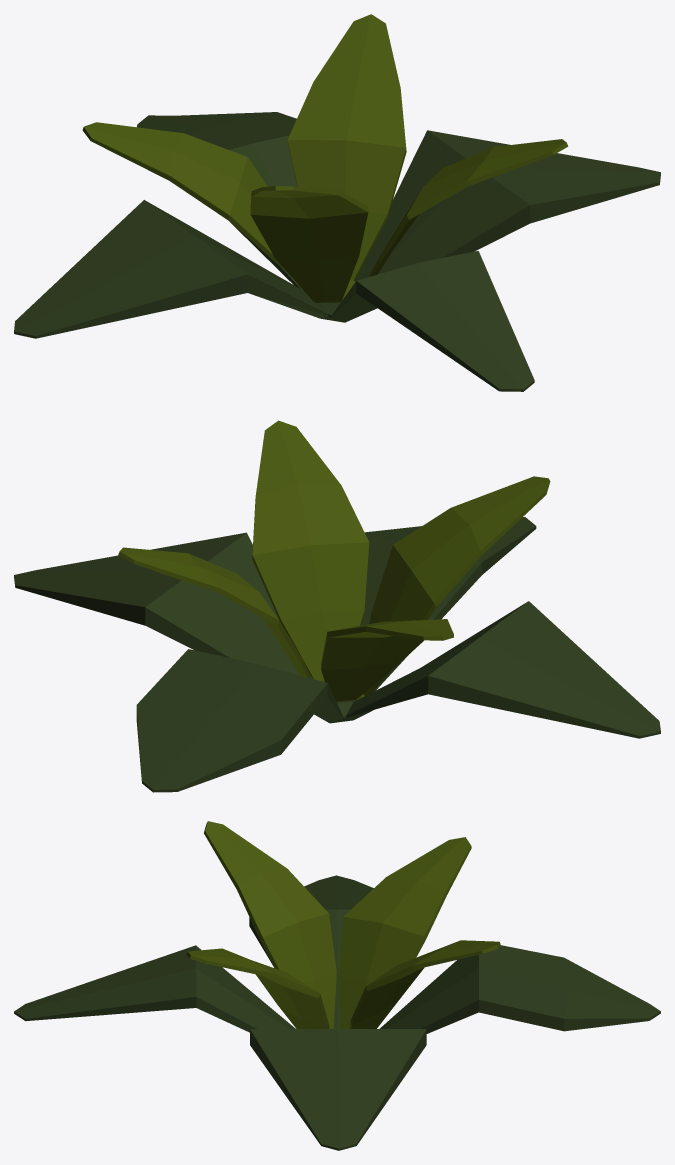
Rendered from LowBush.fbx.
3 views of the same model, one above another, from view 1: azimuth 30°, elevation 25°; view 2: azimuth 150°, elevation 25°; view 3: azimuth 270°, elevation 25° (orthographic). The views are drawn at different scales.
Parts seen in each view (by area): view 1: BushBase, BushTop; view 2: BushBase, BushTop; view 3: BushBase, BushTop.
Part boxes in pixels (bbox=[...]): BushBase: bbox=[14, 112, 660, 391]; BushTop: bbox=[82, 14, 568, 302]; BushBase: bbox=[14, 517, 660, 792]; BushTop: bbox=[118, 420, 550, 701]; BushBase: bbox=[14, 875, 660, 1150]; BushTop: bbox=[186, 821, 500, 1028].
Bounding box in the file's own units: 51.93 × 16.63 × 51.94.
